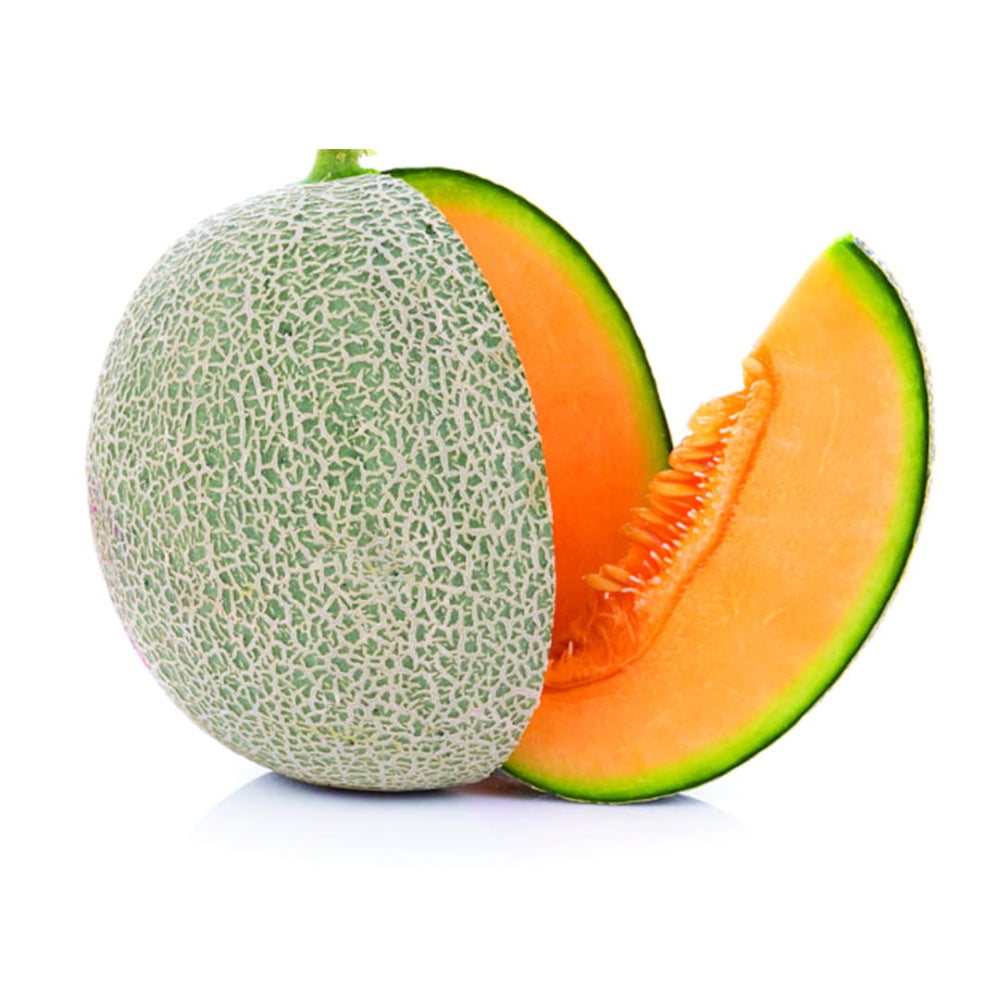Melon: (510, 193, 952, 814)
